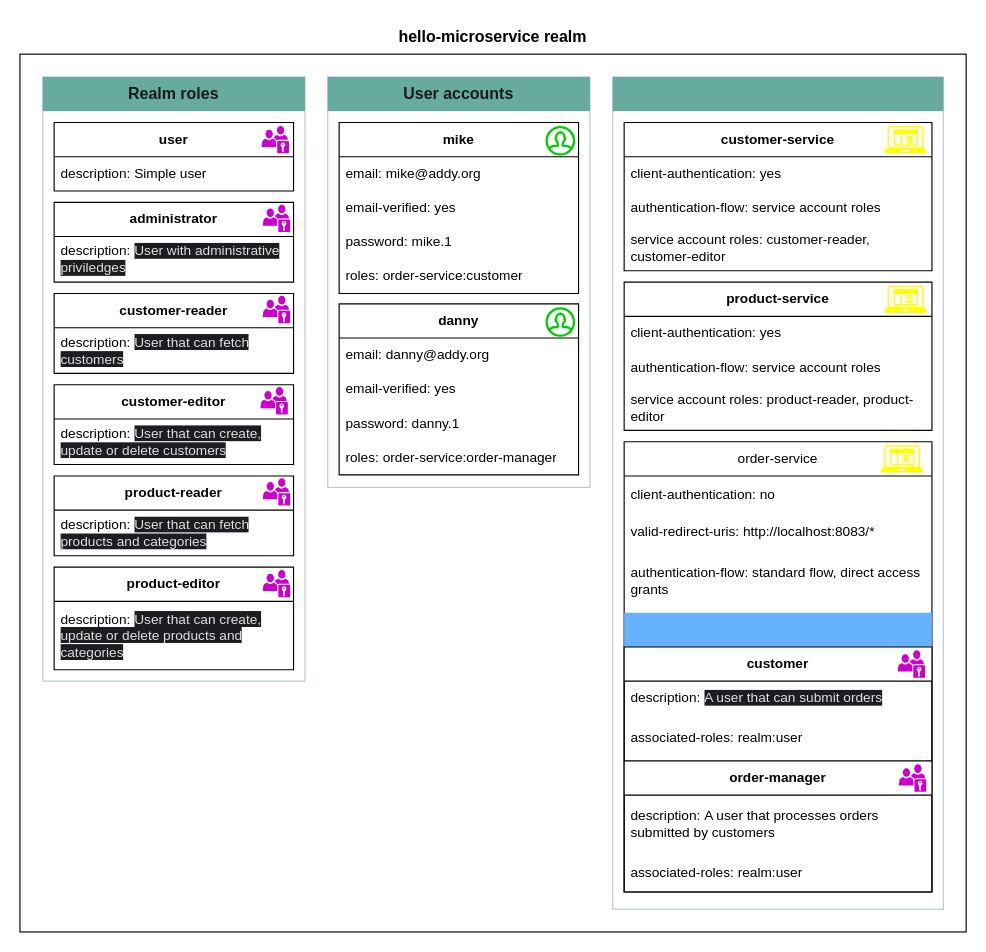
This 986x952 diagram has some shape labels left out. Each missing label, with the centre of its shape:
"client roles" belongs at point (777, 629).
"Clients" belongs at point (777, 93).
